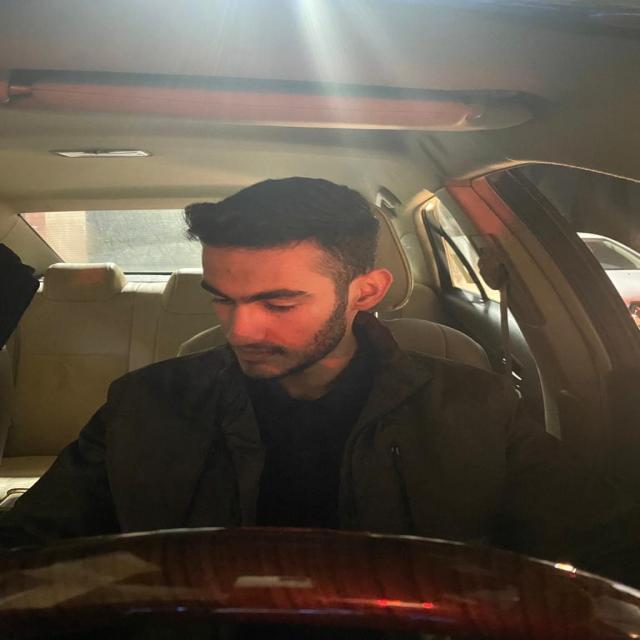drowsy: (182, 188, 385, 379)
